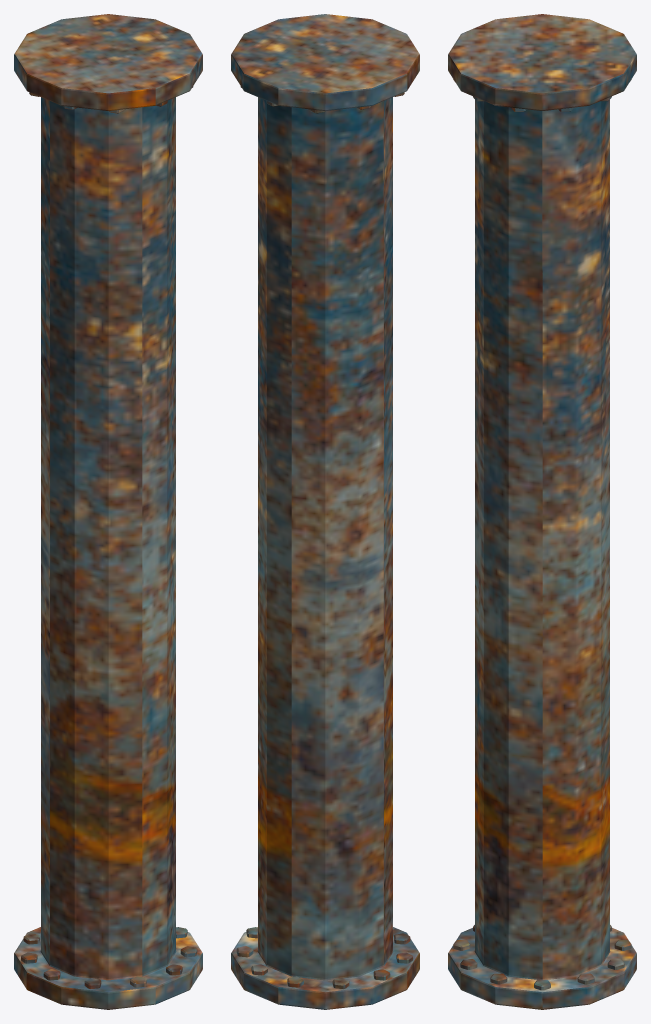
File: pipe.02.fbx
The picture shows the model from 3 angles, left to right: view 1: azimuth 30°, elevation 25°; view 2: azimuth 150°, elevation 25°; view 3: azimuth 270°, elevation 25°; orthographic projection.
Visible parts, largest first — view 1: Pipe.02; view 2: Pipe.02; view 3: Pipe.02.
Part boxes in pixels (left/top/right/bottom): Pipe.02: left=14, top=14, right=202, bottom=1009; Pipe.02: left=231, top=14, right=419, bottom=1009; Pipe.02: left=448, top=14, right=636, bottom=1009.
Size of the model in its own units: 55.99 by 300 by 55.99.
